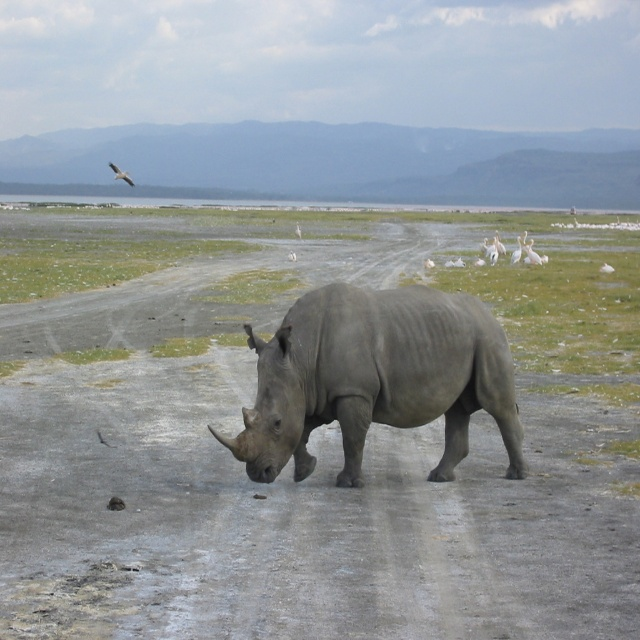Rhinoceros: (201, 282, 532, 490)
